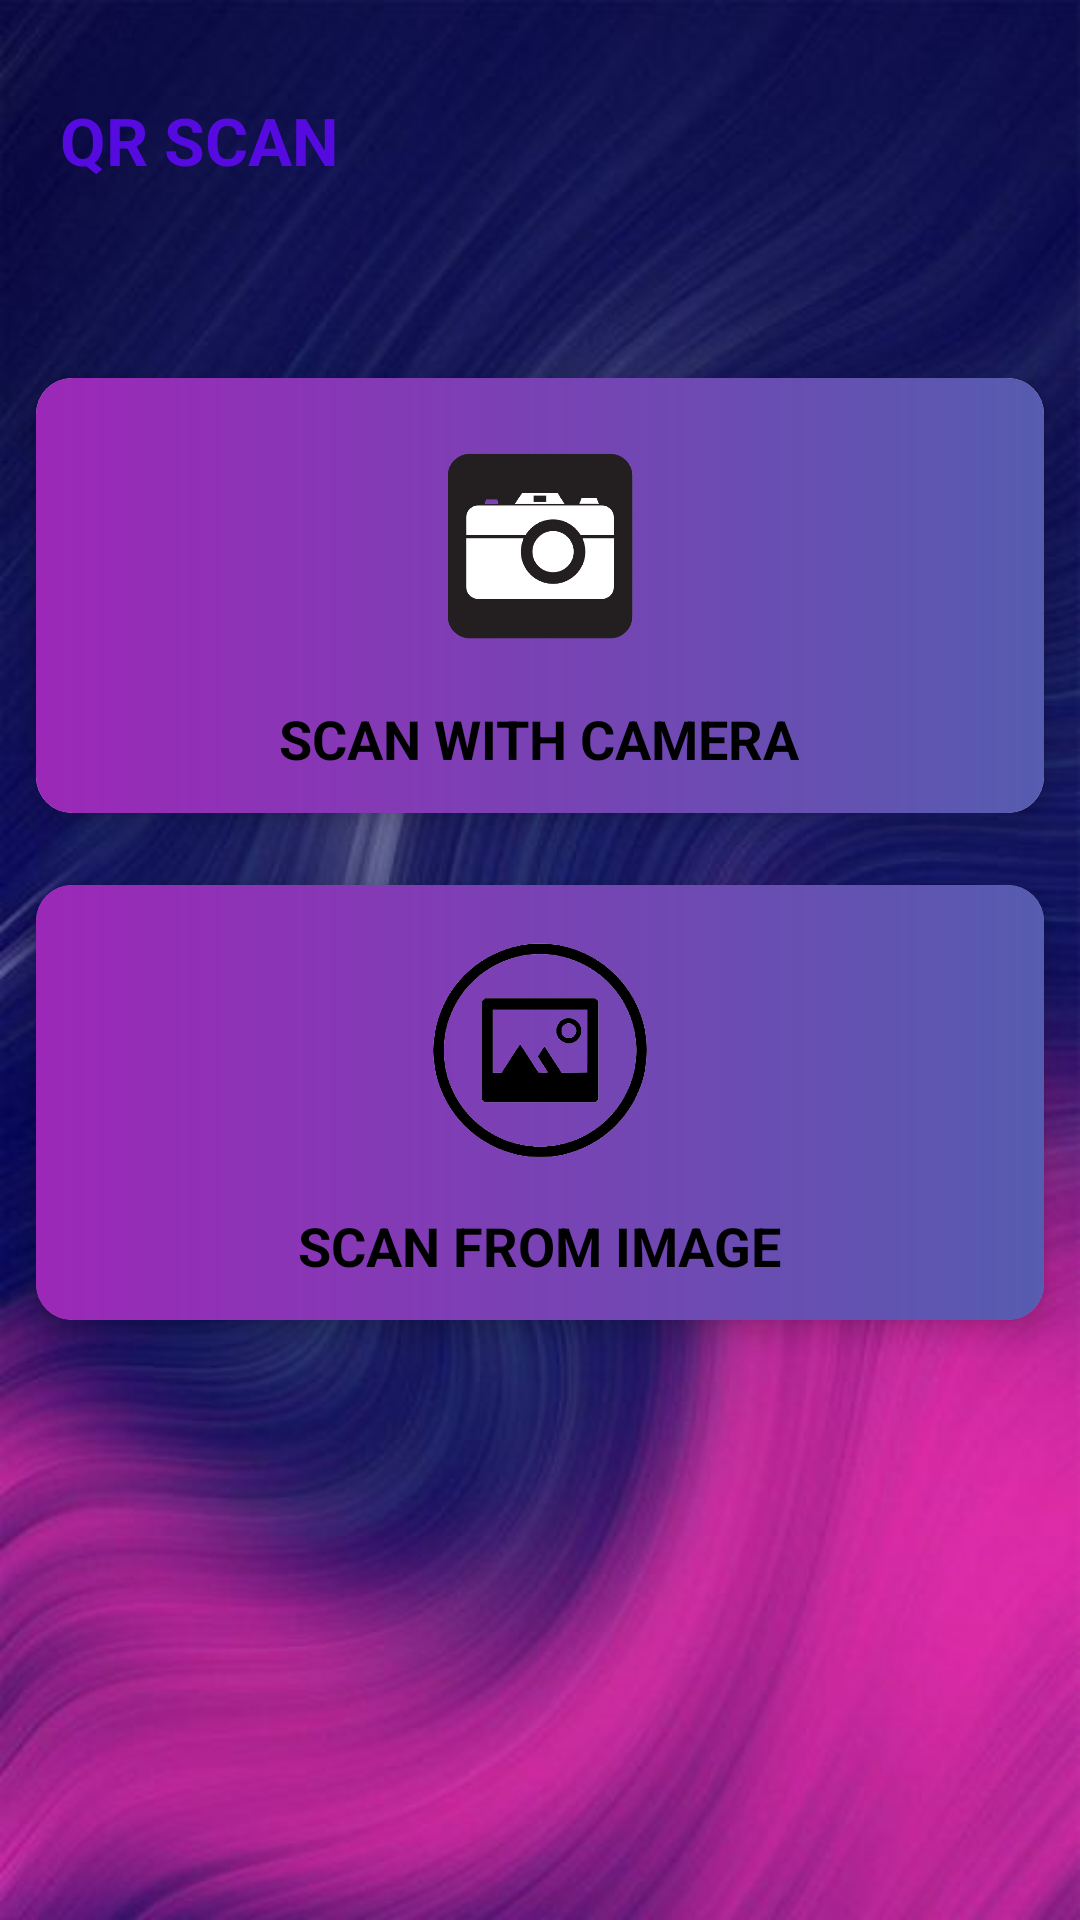

Named icons in this screenshot (1080w x 1920h) and their bounding boxes, (x1, y1, x2, y2):
gallery: (433, 943, 647, 1157)
